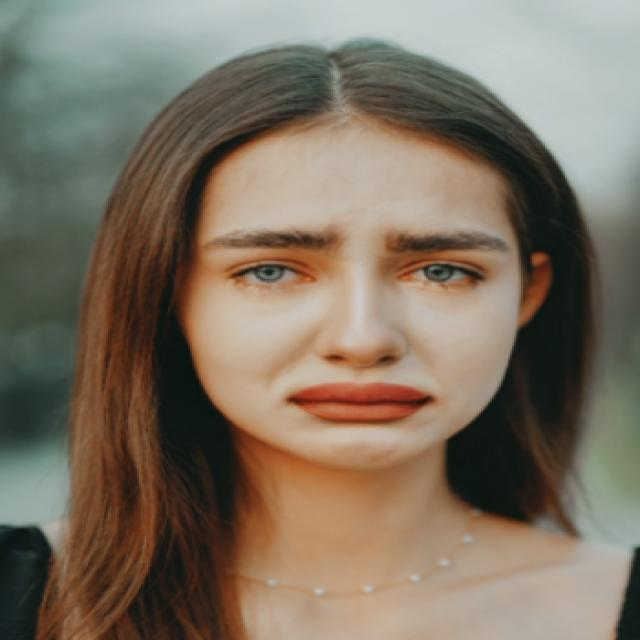sad: (123, 60, 544, 472)
